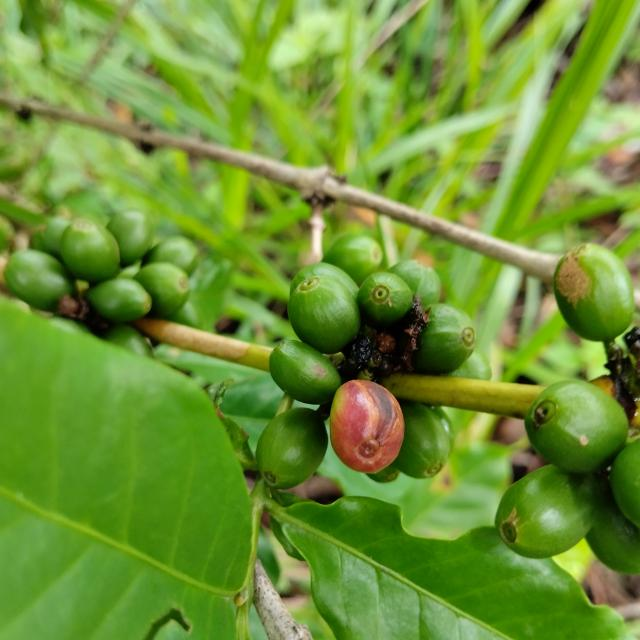green: (525, 381, 629, 474), (496, 466, 599, 559), (554, 243, 636, 342), (256, 408, 328, 490), (288, 276, 361, 354), (269, 340, 341, 405), (3, 249, 75, 312), (413, 304, 476, 375), (392, 404, 451, 479), (587, 494, 640, 576), (59, 218, 119, 283), (133, 262, 190, 318), (357, 272, 413, 328), (323, 234, 383, 285), (85, 278, 151, 322), (610, 439, 640, 529), (106, 209, 153, 266), (389, 259, 442, 309), (290, 262, 359, 297), (143, 236, 198, 275), (448, 350, 493, 381), (429, 406, 456, 451)
red: (330, 380, 405, 474)
